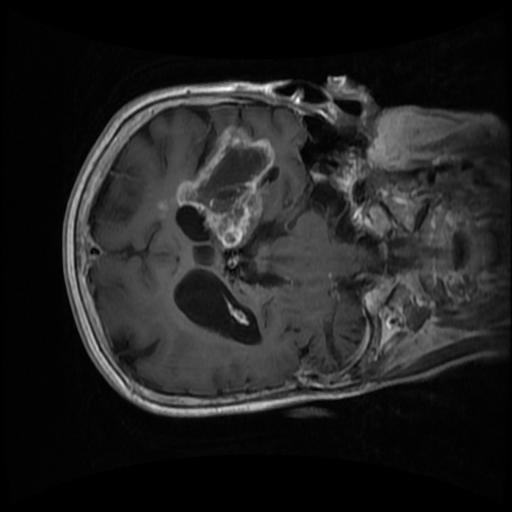glioma: (175, 124, 275, 247)
